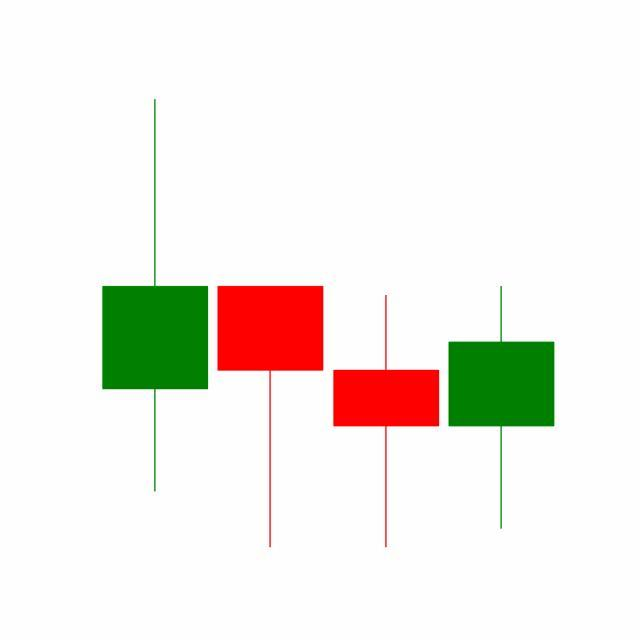Spinning Top: (329, 293, 445, 551)
